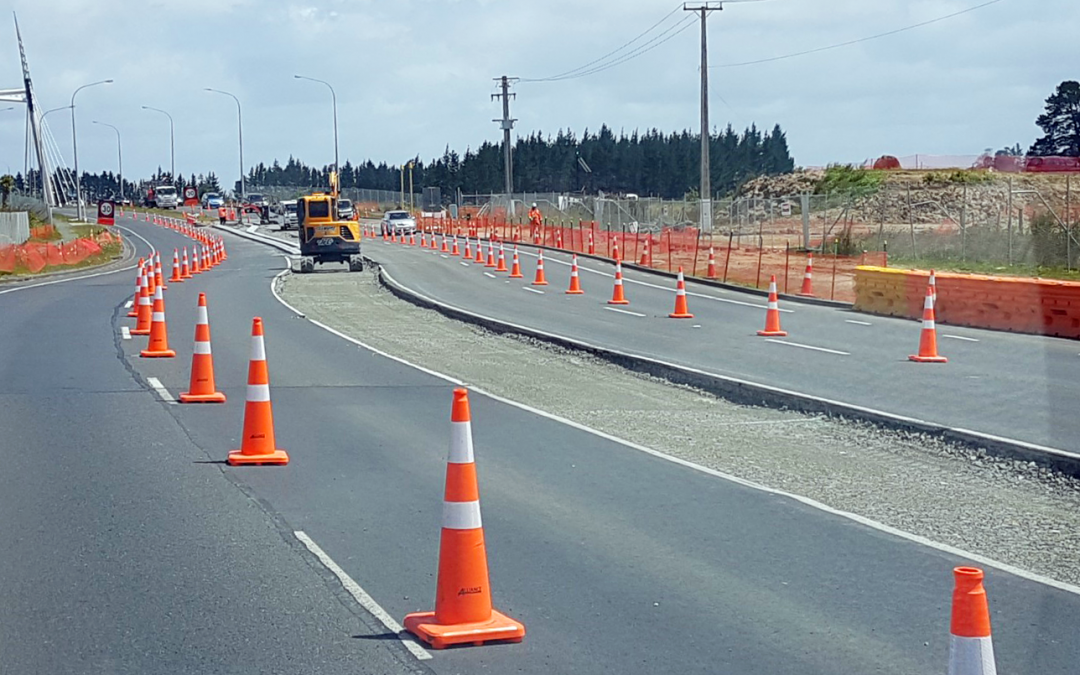cone: (403, 386, 524, 651), (221, 317, 293, 469), (935, 567, 1003, 675), (174, 293, 232, 406), (136, 275, 176, 357), (907, 288, 948, 364), (756, 274, 790, 337), (130, 267, 160, 336), (127, 261, 151, 317), (670, 265, 694, 318), (796, 252, 820, 298), (607, 261, 630, 305), (566, 254, 585, 294), (702, 244, 719, 281), (152, 251, 167, 290), (145, 254, 159, 295), (925, 268, 940, 306), (168, 248, 184, 283), (533, 247, 547, 285), (508, 243, 522, 278), (494, 240, 509, 271), (483, 237, 498, 268), (179, 246, 192, 278), (637, 237, 651, 266), (608, 232, 622, 261), (196, 243, 210, 271), (188, 245, 201, 274), (200, 242, 214, 268), (585, 229, 596, 256), (474, 237, 485, 264), (463, 234, 473, 259), (211, 242, 221, 265), (451, 232, 460, 256), (554, 228, 563, 251), (429, 227, 438, 250), (441, 232, 449, 253), (420, 226, 427, 248), (409, 227, 417, 246), (533, 224, 540, 244), (513, 222, 519, 243), (390, 225, 397, 243), (400, 227, 407, 244), (383, 222, 388, 241), (182, 219, 188, 234), (370, 224, 376, 238), (187, 222, 193, 236), (191, 225, 197, 239), (178, 219, 184, 232), (132, 209, 138, 220), (363, 223, 368, 236), (173, 217, 178, 230), (168, 217, 173, 229), (119, 205, 123, 217), (146, 211, 150, 223), (153, 213, 157, 225), (159, 215, 163, 227), (164, 217, 168, 228)
